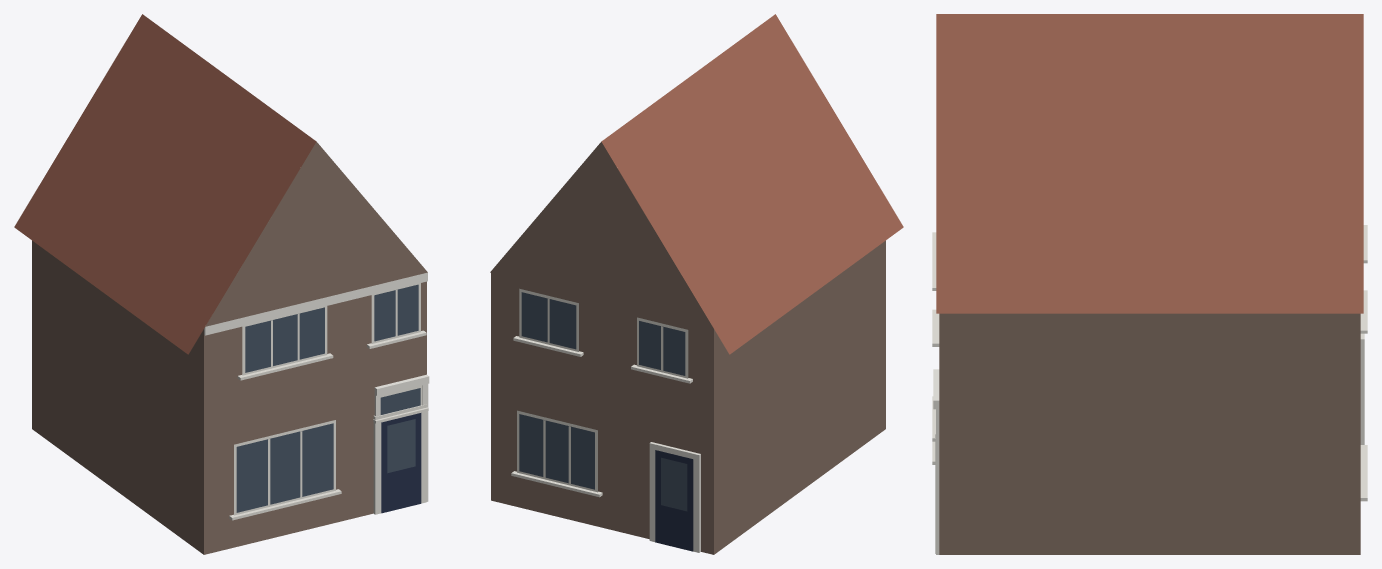
File: nn-row__wide__2__gable__short__solid__mirror.glb
3 renders of one model, left to right at view 1: azimuth 30°, elevation 25°; view 2: azimuth 150°, elevation 25°; view 3: azimuth 270°, elevation 25°, orthographic. The views are drawn at different scales.
Parts seen in each view (by area): view 1: nn-row__wide__2__gable__short__solid__mirror; view 2: nn-row__wide__2__gable__short__solid__mirror; view 3: nn-row__wide__2__gable__short__solid__mirror.
Part boxes in pixels (bbox=[...]): nn-row__wide__2__gable__short__solid__mirror: bbox=[14, 14, 429, 554]; nn-row__wide__2__gable__short__solid__mirror: bbox=[490, 14, 903, 554]; nn-row__wide__2__gable__short__solid__mirror: bbox=[932, 14, 1367, 554].
Bounding box in the file's own units: 6.1 × 8.79 × 7.31.
